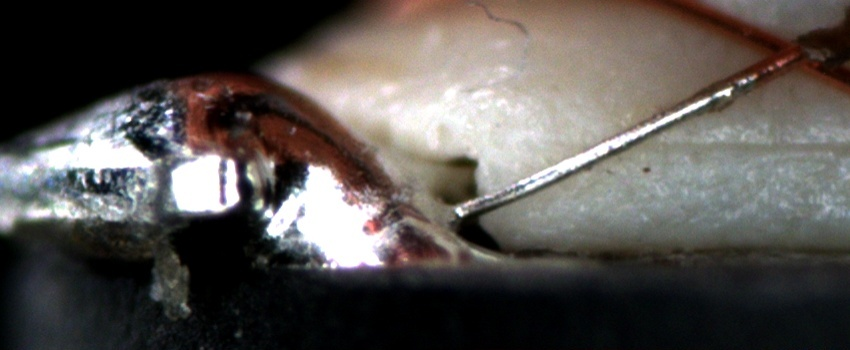CL: (746, 17, 835, 80)
DL: (548, 115, 850, 176)
TS: (457, 68, 759, 216)
